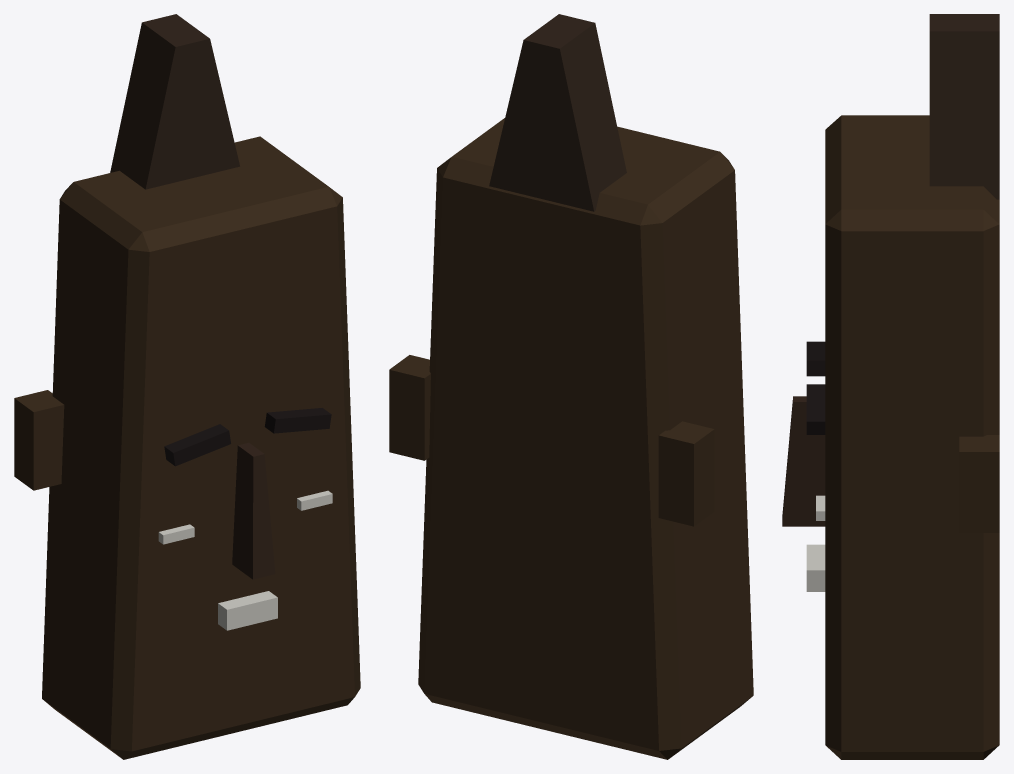
File: wall-mask-37.glb
The picture shows the model from 3 angles, left to right: view 1: azimuth 30°, elevation 25°; view 2: azimuth 150°, elevation 25°; view 3: azimuth 270°, elevation 25°; orthographic projection. The views are drawn at different scales.
Parts seen in each view (by area): view 1: wall_mask_37; view 2: wall_mask_37; view 3: wall_mask_37.
Part boxes in pixels (bbox=[...]): wall_mask_37: bbox=[14, 14, 360, 759]; wall_mask_37: bbox=[389, 14, 753, 759]; wall_mask_37: bbox=[782, 14, 999, 759].
Bounding box in the file's own units: 0.2586 × 0.5614 × 0.1623.
